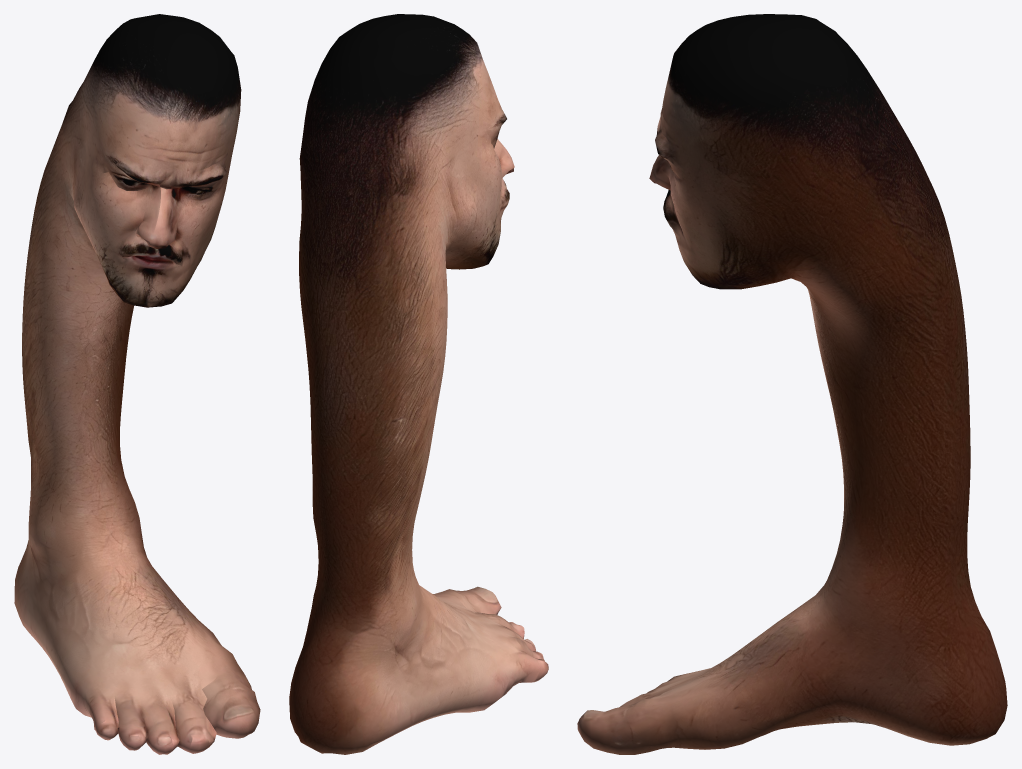
File: sunyk.glb
3 views of the same model, side by side, from view 1: azimuth 30°, elevation 25°; view 2: azimuth 150°, elevation 25°; view 3: azimuth 270°, elevation 25° (orthographic). The views are drawn at different scales.
Visible parts, largest first — view 1: model; view 2: model; view 3: model.
Part boxes in pixels (x1,y1,x2,y2): model: (14, 14, 260, 754); model: (289, 14, 548, 754); model: (577, 14, 1007, 754).
Bounding box in the file's own units: 0.2774 × 1 × 0.5249.
1 material, 1 textured.
